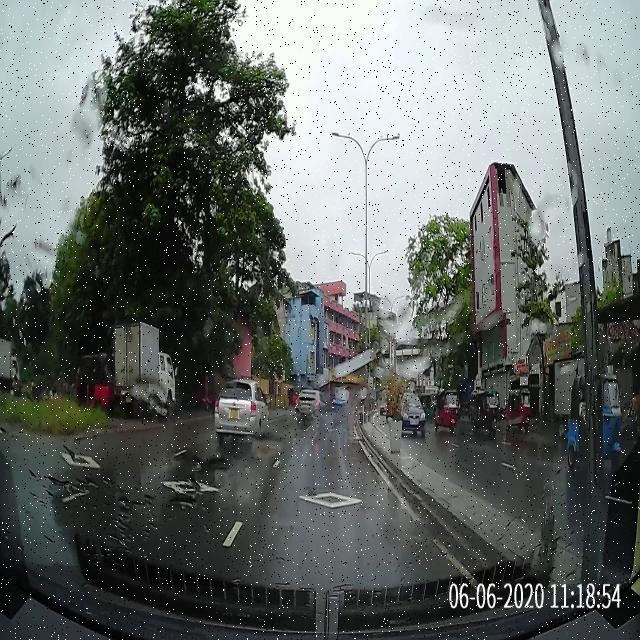diamond: (226, 477, 428, 526)
